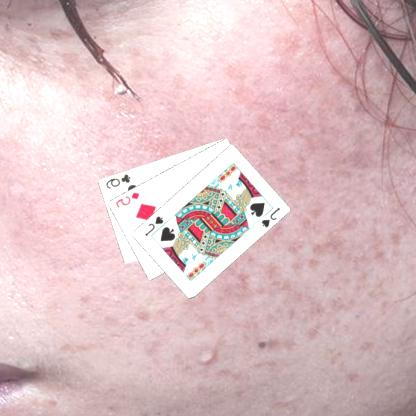5D: (114, 190, 142, 210)
6C: (105, 171, 133, 190)
JS: (260, 204, 283, 229), (144, 213, 166, 237)
